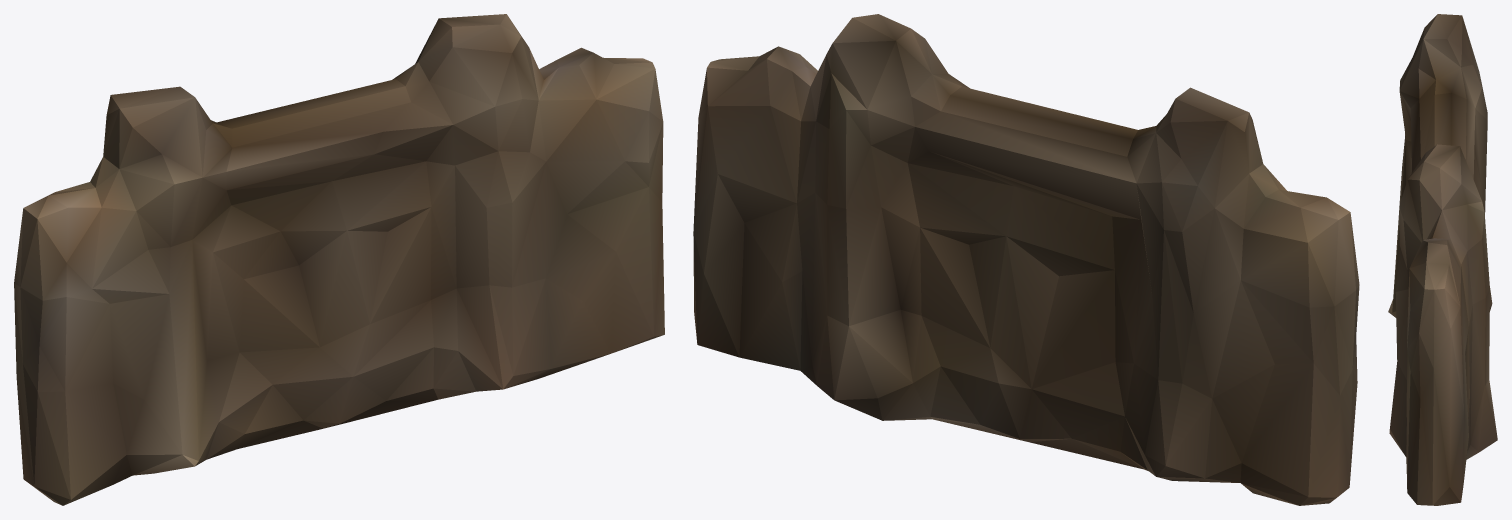
Rendered from woodgate.glb.
3 views of the same model, side by side, from view 1: azimuth 30°, elevation 25°; view 2: azimuth 150°, elevation 25°; view 3: azimuth 270°, elevation 25° (orthographic). The views are drawn at different scales.
Visible parts, largest first — view 1: model.001; view 2: model.001; view 3: model.001.
Part boxes in pixels (x1,y1,x2,y2): model.001: (14,14,664,505); model.001: (693,14,1359,505); model.001: (1388,14,1497,505).
Bounding box in the file's own units: 1.04 × 0.5764 × 0.1901.
